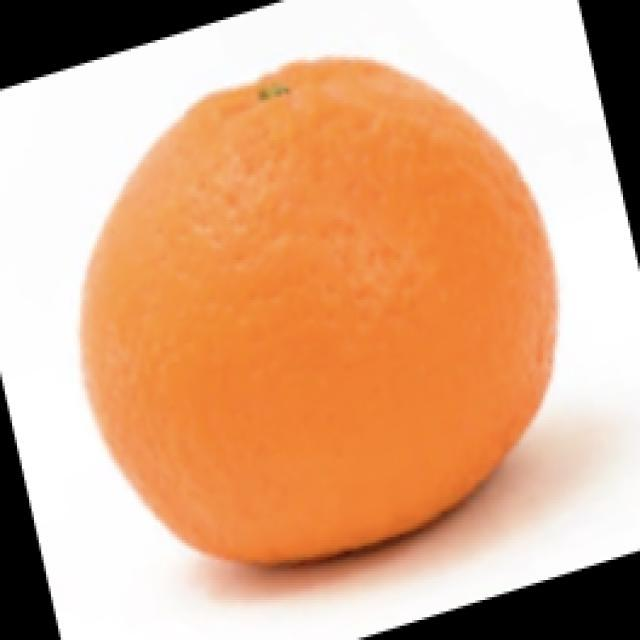Orange: (78, 55, 558, 568)
